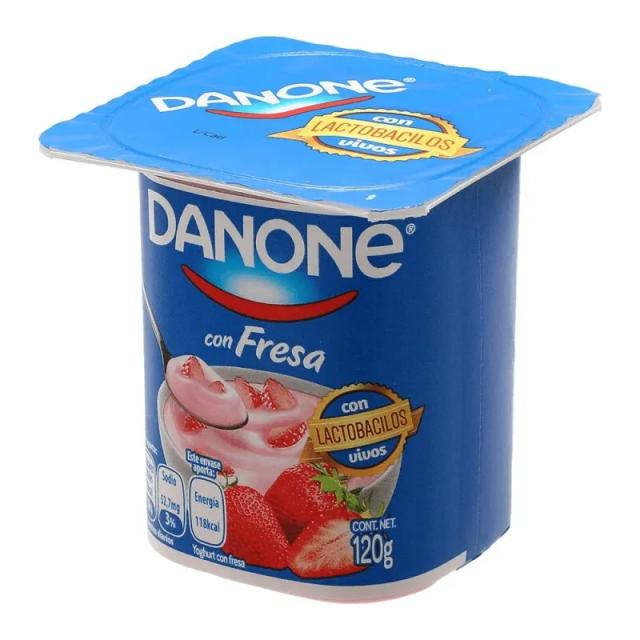yogurt: (33, 36, 606, 604)
